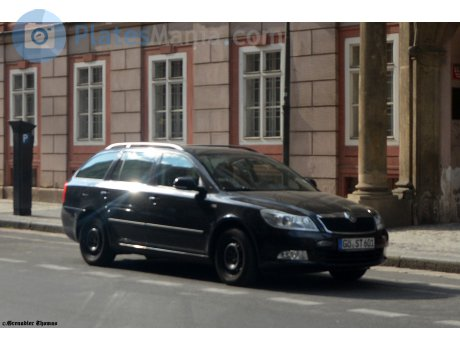License Plates: (340, 237, 378, 246)
